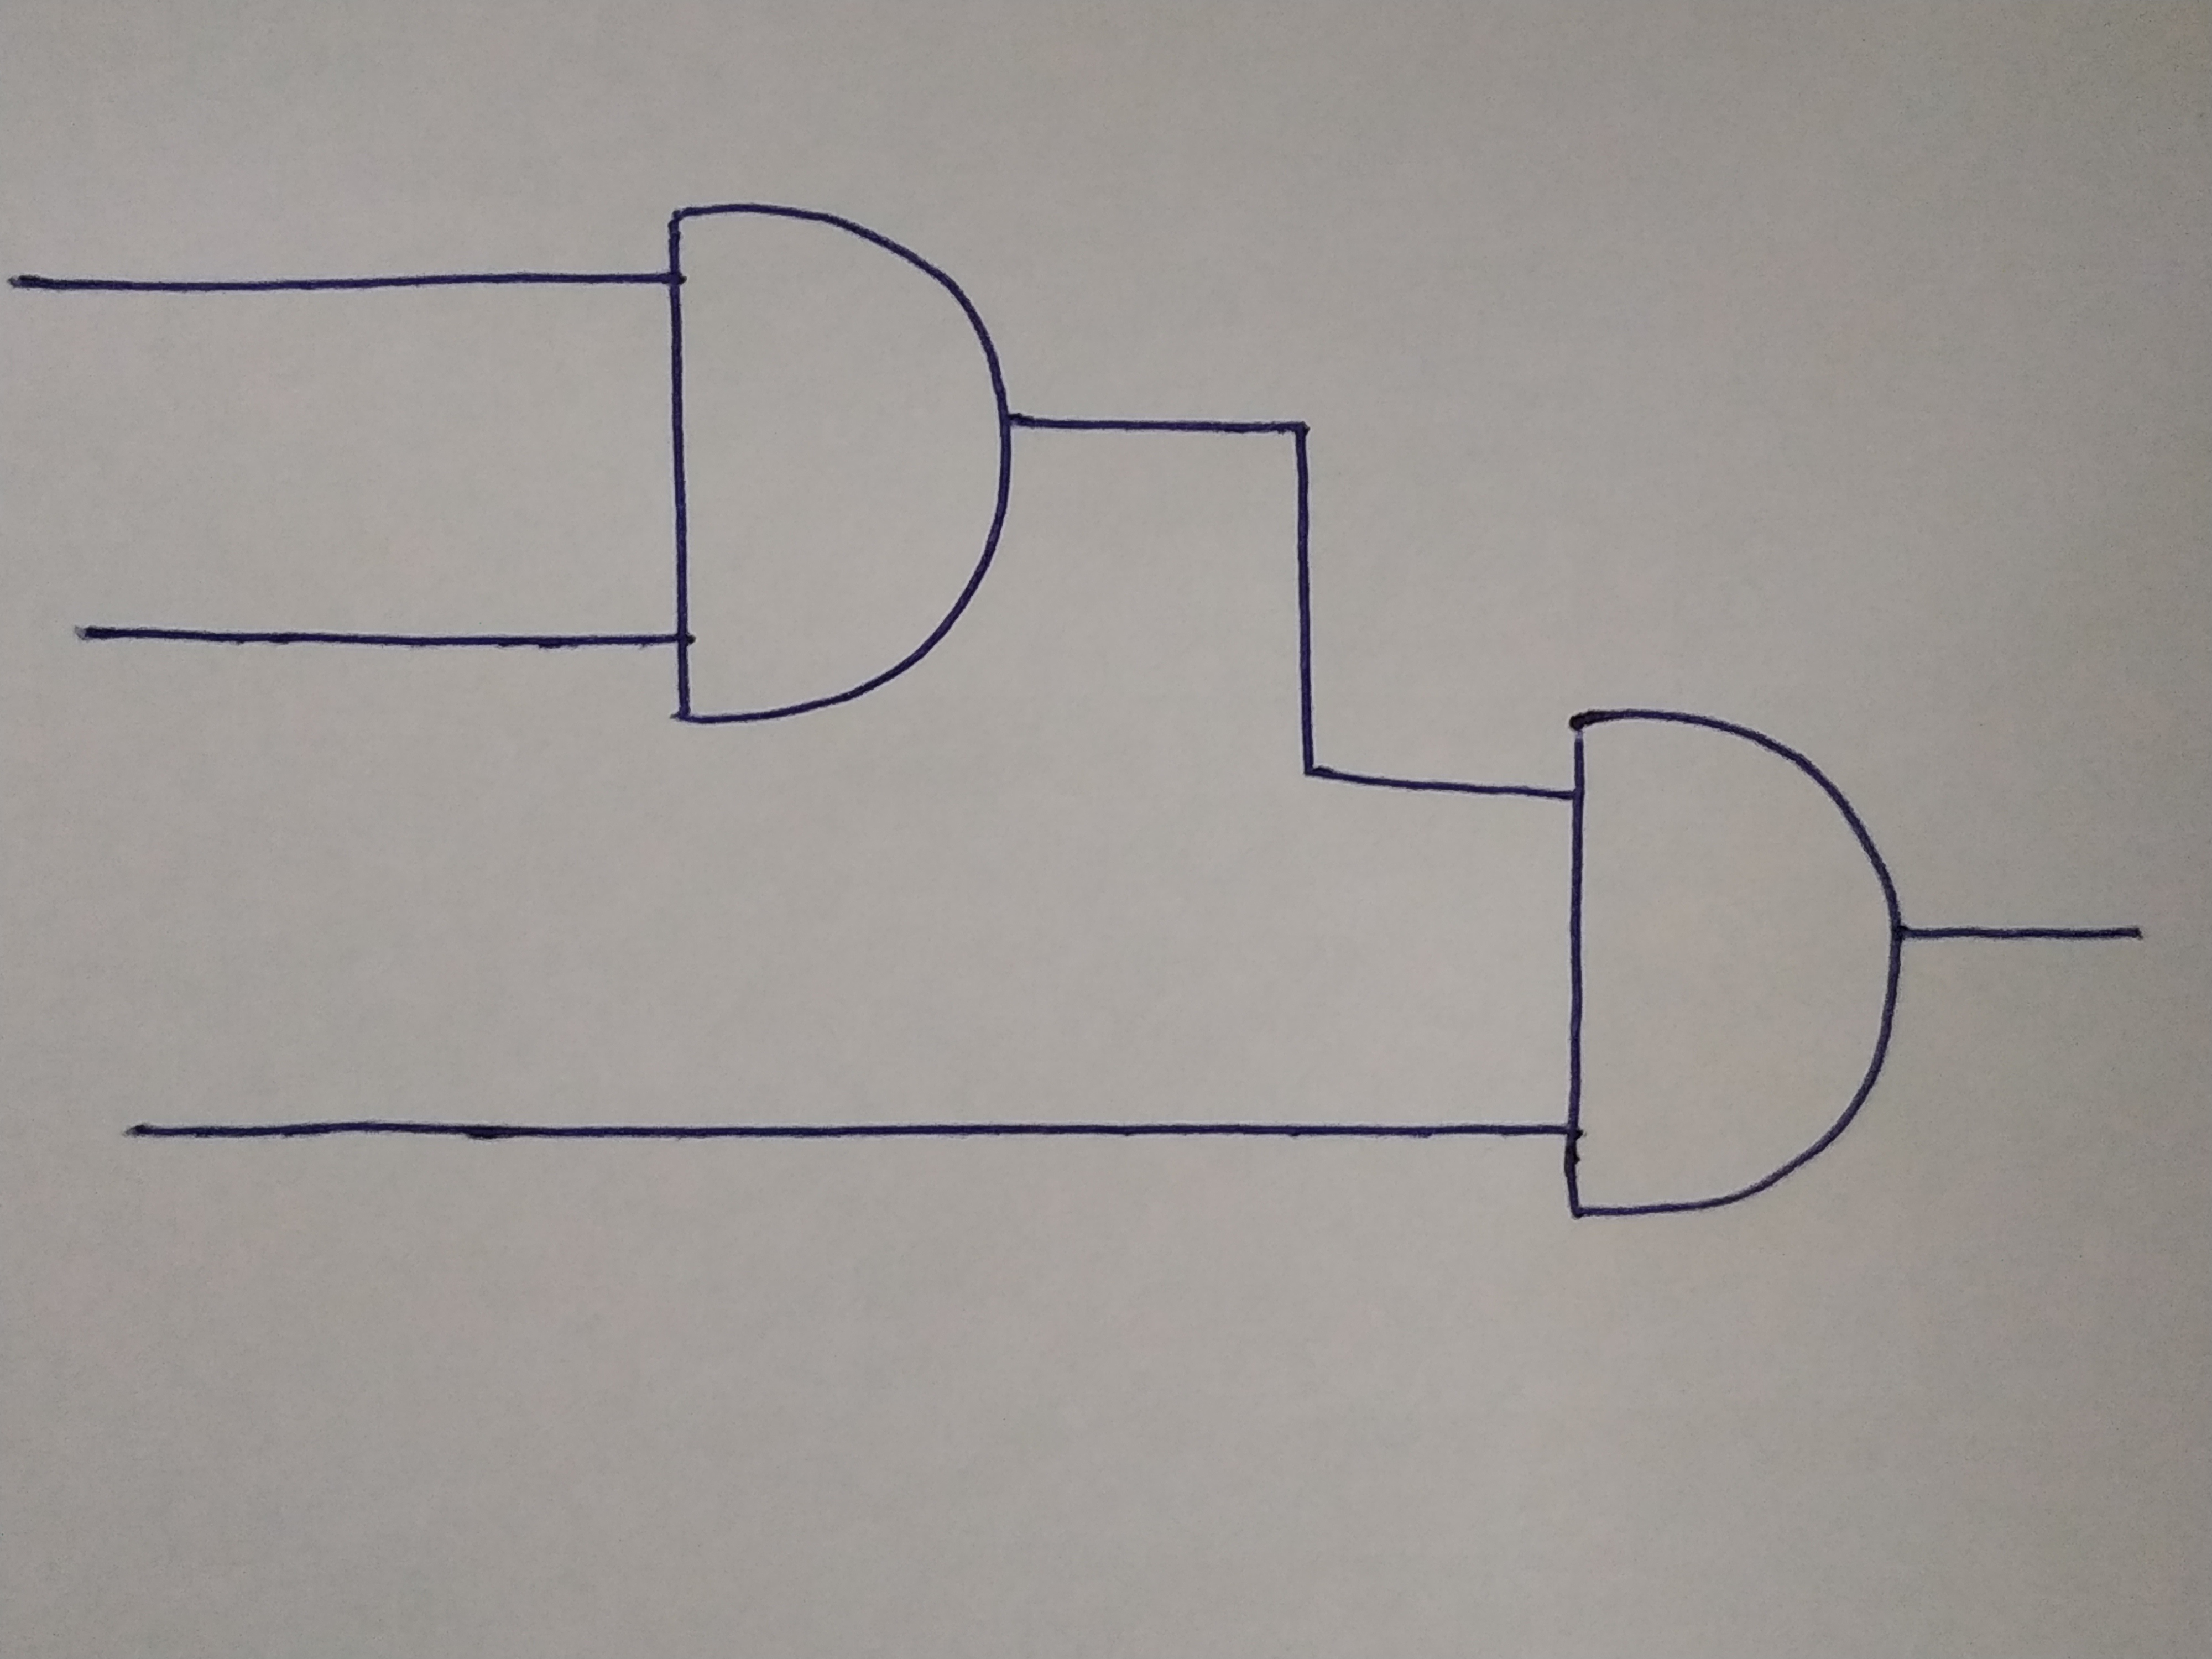and: (662, 200, 1010, 720), (1566, 711, 1890, 1220)
